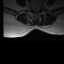CCS_normal: (35, 6, 37, 14)
LFS_normal: (38, 5, 40, 11)
LLS_normal: (37, 6, 38, 12)
RFS_normal: (31, 5, 33, 11)
RLS_normal: (33, 6, 35, 12)
